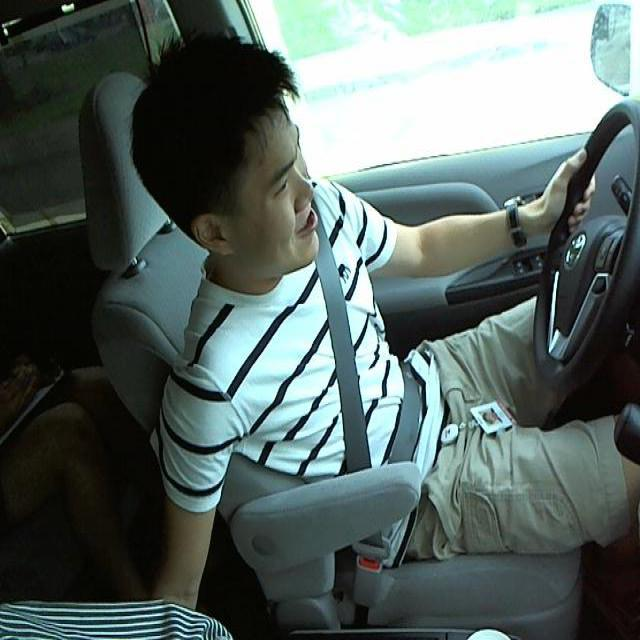seatbelt: (306, 266, 419, 502)
